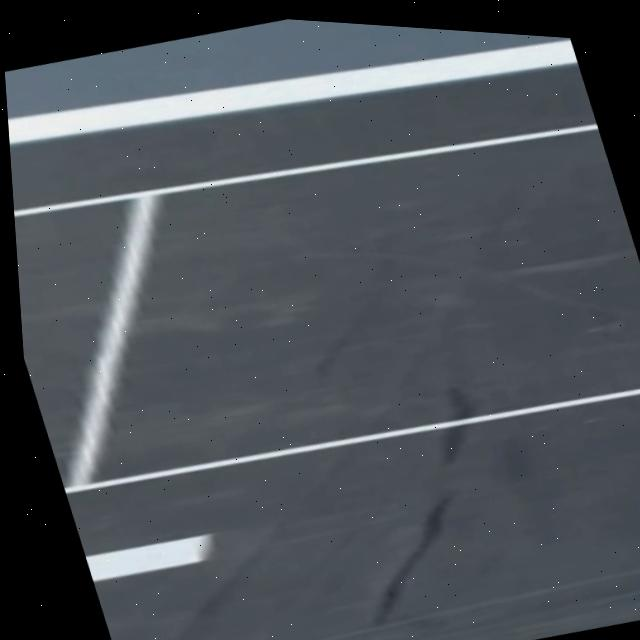center: (85, 533, 213, 579)
left: (8, 38, 577, 142)
